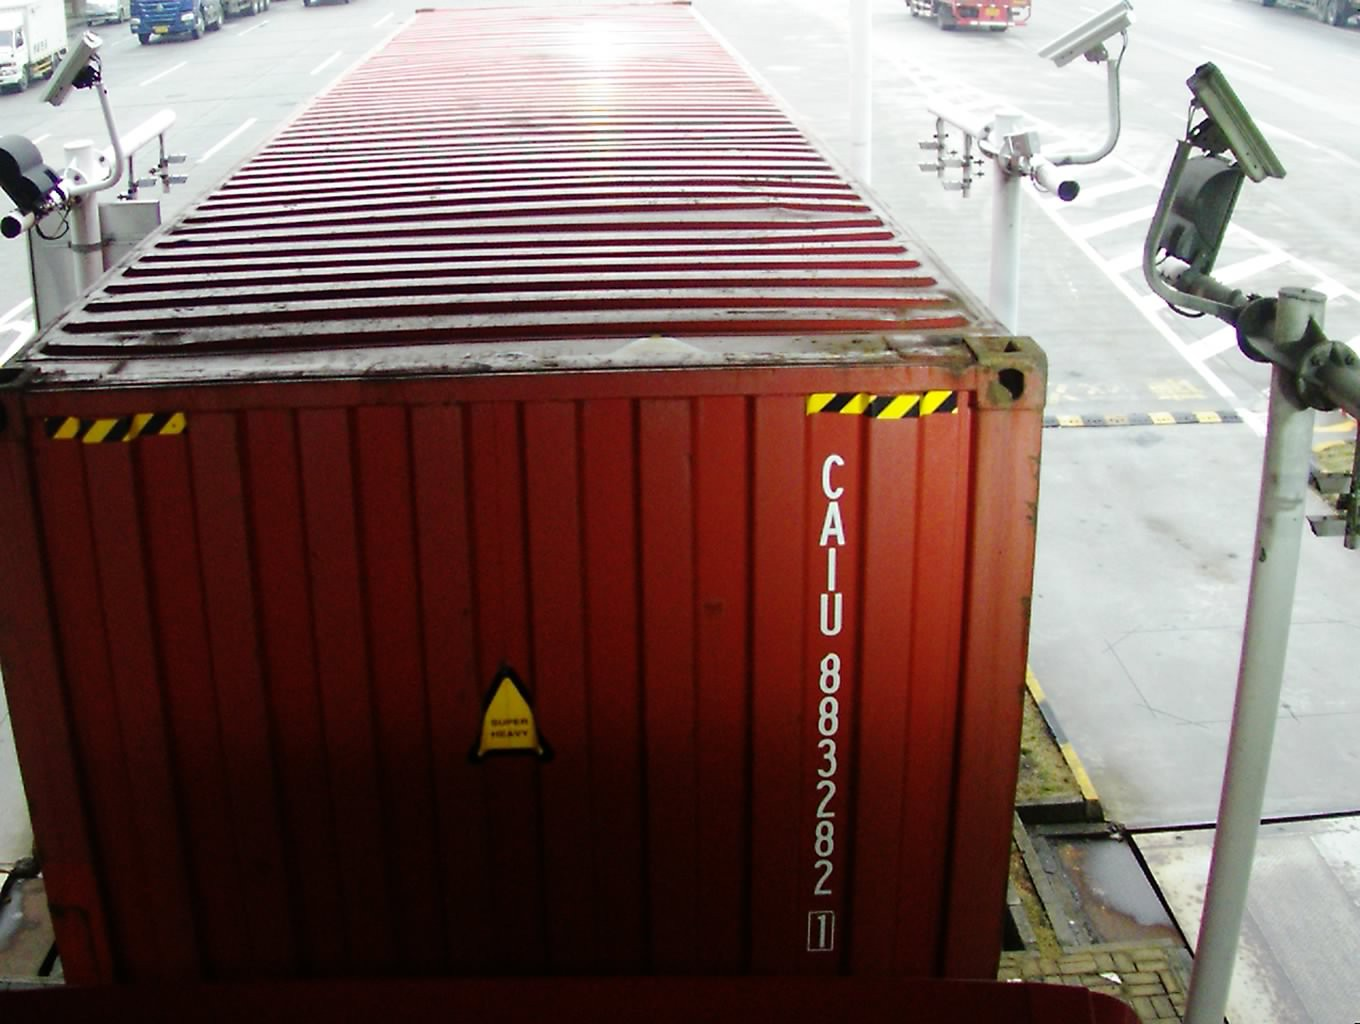words: (802, 443, 851, 957)
